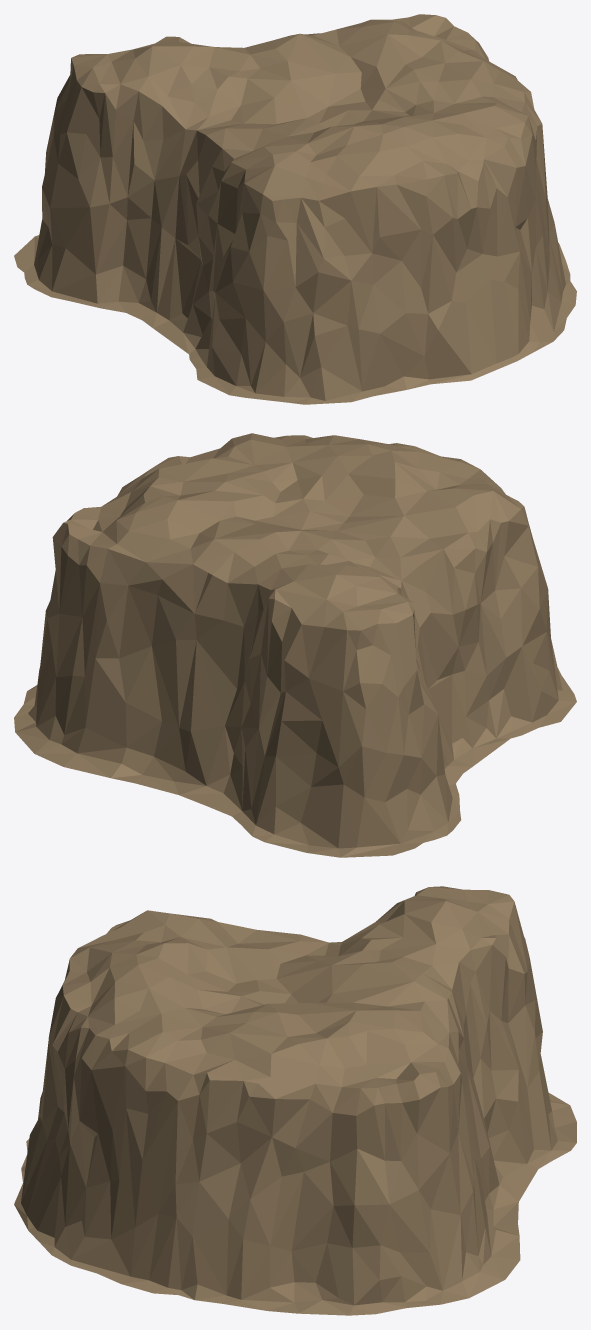
The model's file is SmallTerrain07.fbx.
3 views of the same model, one above another, from view 1: azimuth 30°, elevation 25°; view 2: azimuth 150°, elevation 25°; view 3: azimuth 270°, elevation 25° (orthographic). The views are drawn at different scales.
Visible parts, largest first — view 1: SmallTerrain07; view 2: SmallTerrain07; view 3: SmallTerrain07.
Part boxes in pixels (<box>): SmallTerrain07: <box>14,14,576,404</box>; SmallTerrain07: <box>14,433,576,857</box>; SmallTerrain07: <box>14,886,576,1315</box>.
Bounding box in the file's own units: 52.98 × 24.82 × 52.9.
